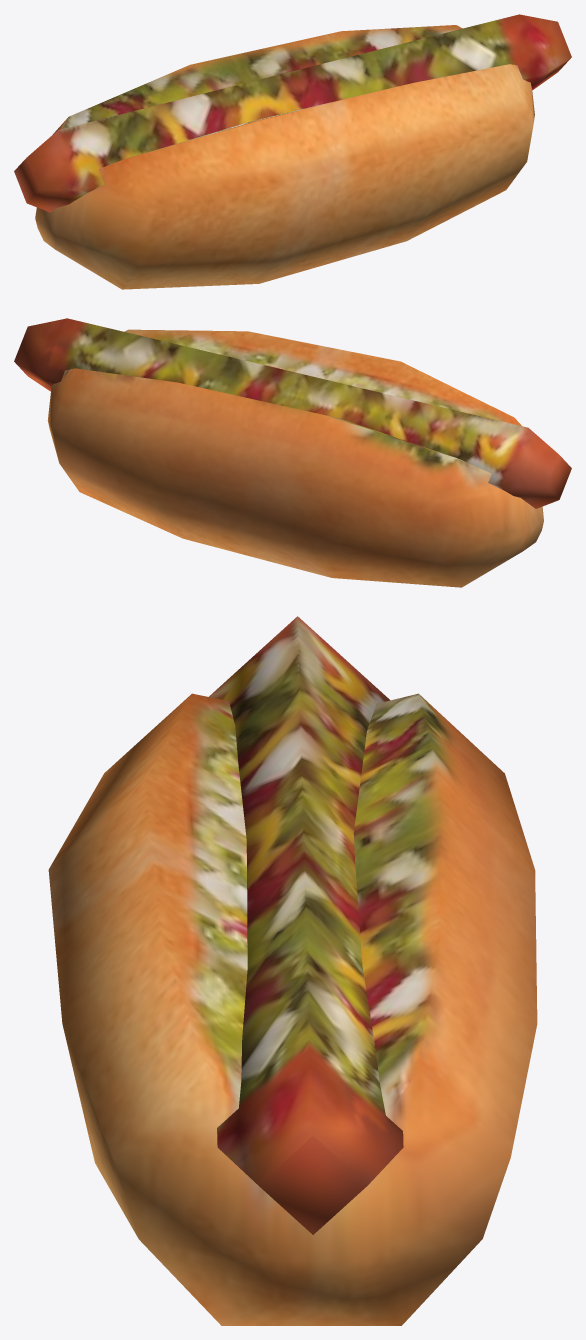
File: Hotdog_02.dae
The picture shows the model from 3 angles, top to bottom: view 1: azimuth 30°, elevation 25°; view 2: azimuth 150°, elevation 25°; view 3: azimuth 270°, elevation 25°; orthographic projection. The views are drawn at different scales.
Visible parts, largest first — view 1: Hotdog_02; view 2: Hotdog_02; view 3: Hotdog_02.
Boxes of the visible parts, x1,y1,x2,y2 form: Hotdog_02: (14, 14, 571, 289); Hotdog_02: (14, 318, 571, 587); Hotdog_02: (48, 616, 537, 1325).
Size of the model in its own units: 0.2912 by 0.1167 by 0.0887.
Materials: 1 (1 with a texture image).
